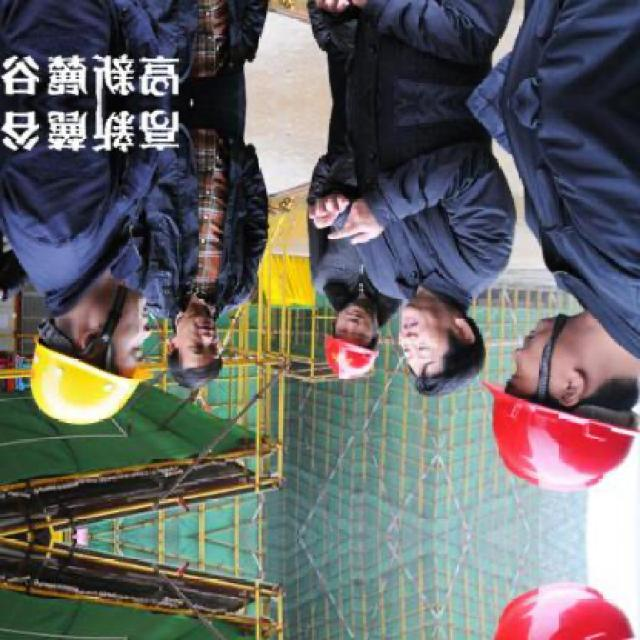con casco: (0, 207, 180, 459), (503, 245, 640, 488), (295, 276, 412, 393)
sin casco: (355, 222, 491, 401), (158, 281, 258, 397)
